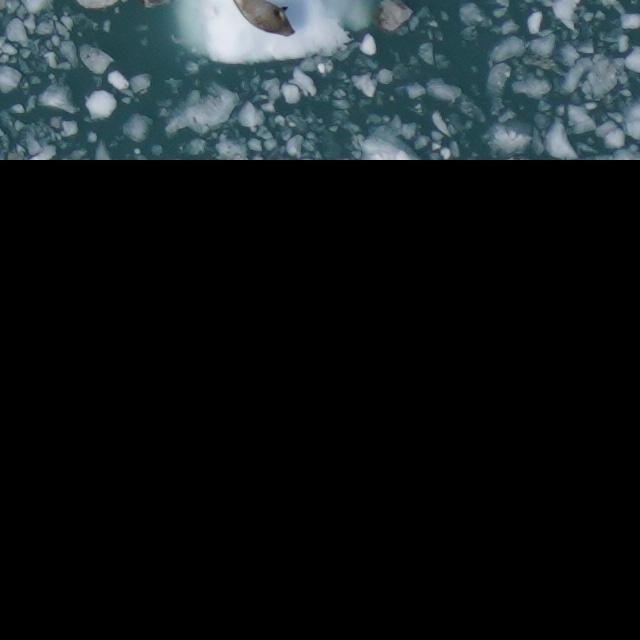seal: (232, 0, 295, 35)
